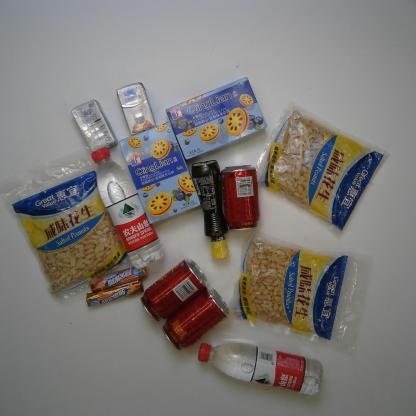Candy: (85, 279, 145, 308), (90, 266, 148, 293)
Dessert: (165, 76, 268, 161), (119, 121, 202, 225)
Dried Fruit: (0, 147, 133, 302), (226, 228, 375, 356), (256, 99, 390, 238)
Drink: (90, 147, 165, 269), (197, 341, 325, 397), (139, 258, 209, 323), (161, 287, 230, 352), (220, 164, 261, 232)
Milk: (70, 98, 118, 154), (116, 81, 156, 136)
Seasoner: (191, 159, 230, 261)
